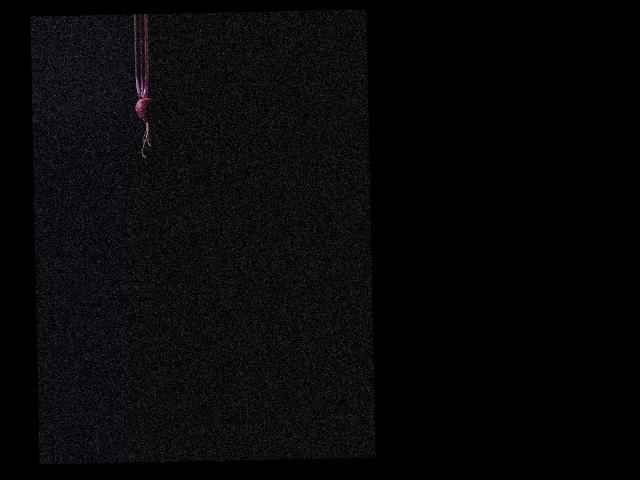beet: (133, 72, 158, 158)
